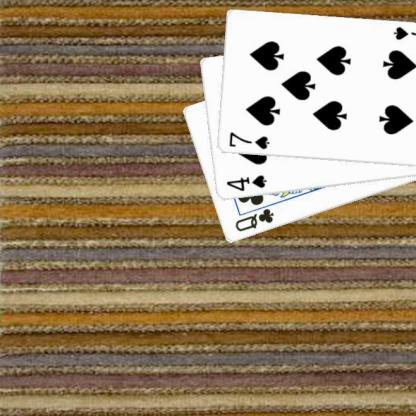4S: (223, 172, 268, 193)
7S: (226, 130, 270, 151), (390, 24, 416, 46)
QC: (232, 206, 275, 233)
